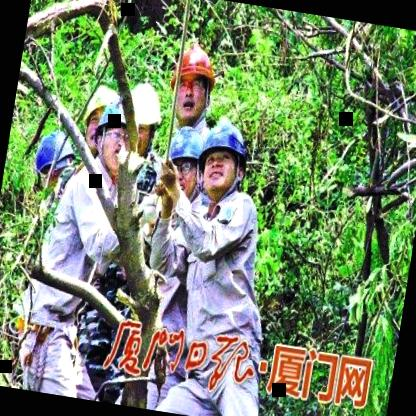helmet: (184, 112, 256, 207), (84, 82, 150, 177), (162, 39, 225, 136), (30, 130, 82, 200), (121, 84, 167, 160), (160, 121, 204, 198), (77, 83, 114, 149)
